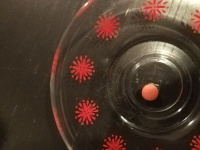Dolorex: (141, 82, 159, 102)
